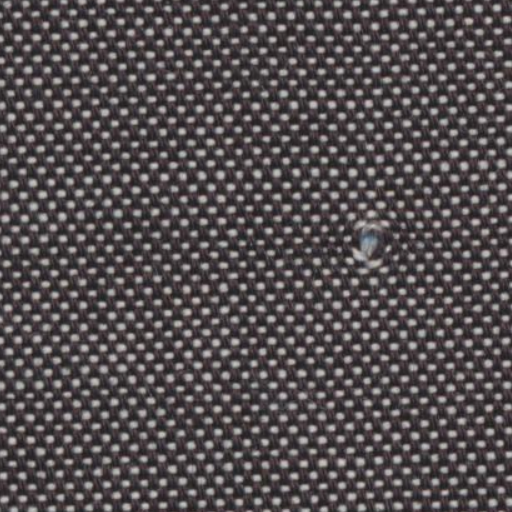PoDong: (336, 198, 408, 280)
